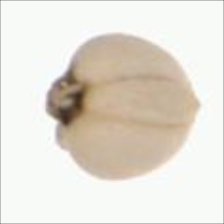L5: (83, 78, 206, 130), (45, 58, 89, 142), (184, 72, 202, 143)
L6: (43, 32, 210, 188)
